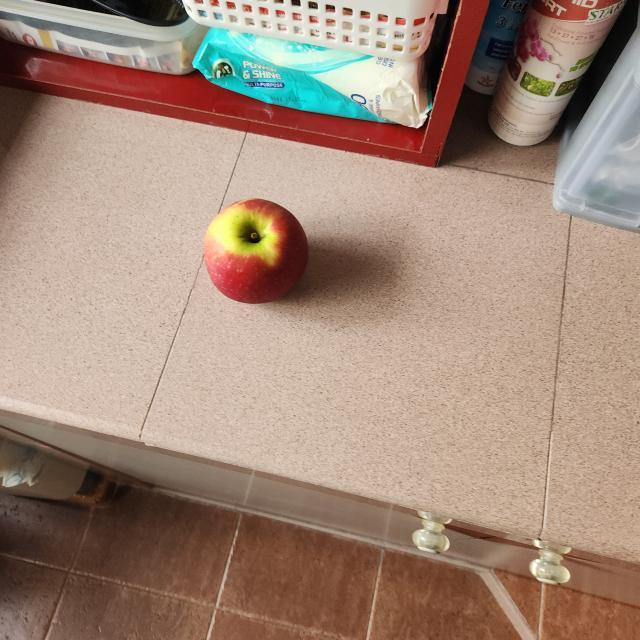apple: (194, 192, 318, 310)
